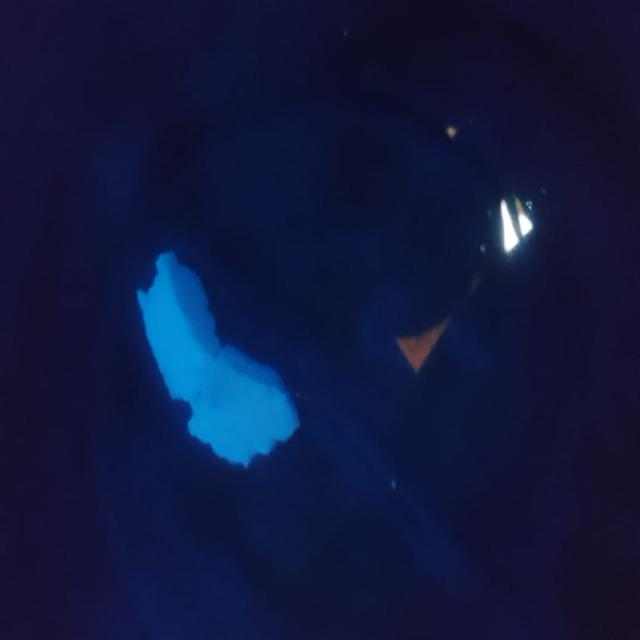thermocoal: (130, 226, 308, 486)
